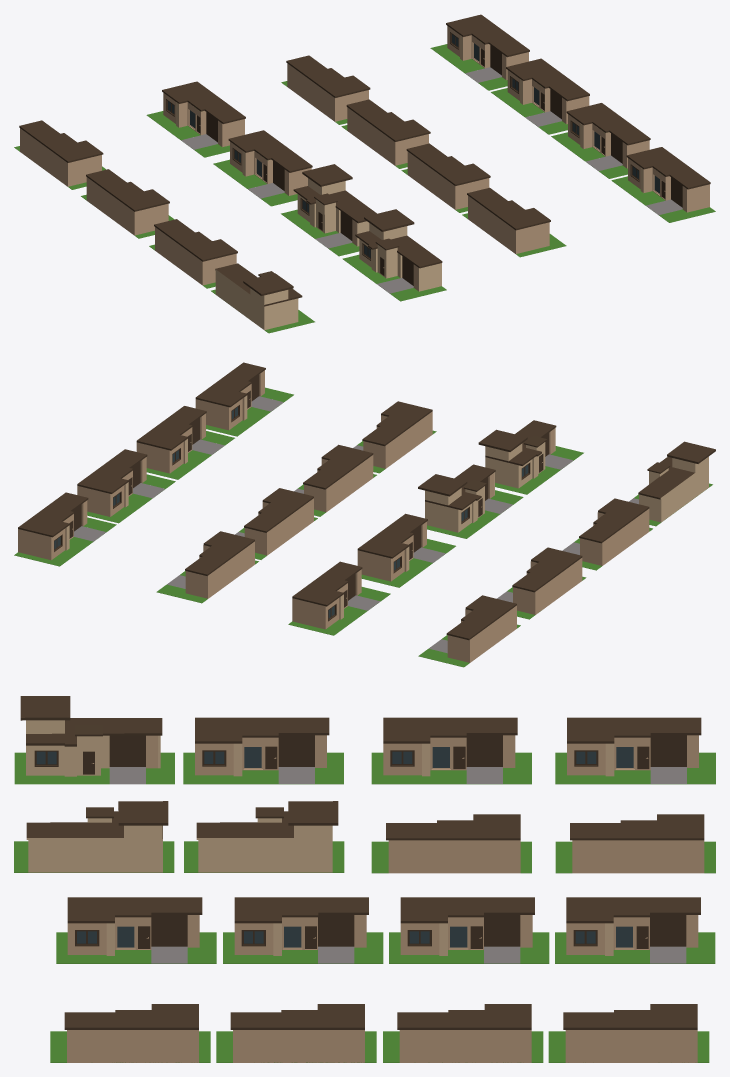
The model's file is main_scene_outter-homes.glb.
The picture shows the model from 3 angles, top to bottom: view 1: azimuth 30°, elevation 25°; view 2: azimuth 150°, elevation 25°; view 3: azimuth 270°, elevation 25°; orthographic projection. The views are drawn at different scales.
Visible parts, largest first — view 1: house-small-2-roof (×13), house-small-2-back-wall (×8), house-small-2-ground (×6), house-small-1-top-roof (×3), house-small-1-ground (×2), house-small-1-back-wall (×2), house-small-1-door-wall (×2), house-small-1-left-wall; view 2: house-small-2-roof (×13), house-small-2-back-wall (×13), house-small-2-ground (×8), house-small-1-top-roof (×3), house-small-1-ground (×2), house-small-1-back-wall, house-small-1-left-wall (×2); view 3: house-small-2-roof (×13), house-small-2-back-wall (×6), house-small-2-ground (×13), house-small-1-top-roof (×3), house-small-2-wall-window (×7), house-small-1-back-wall (×2), house-small-2-garage (×7), house-small-2-door-wall (×7), house-small-1-ground (×3), house-small-1-garage, house-small-1-front-window, house-small-1-door-wall.
Boxes of the visible parts, bbox=[...] form: house-small-2-roof (×13): bbox=[19, 14, 710, 261]; house-small-2-back-wall (×8): bbox=[20, 63, 709, 285]; house-small-2-ground (×6): bbox=[146, 44, 715, 222]; house-small-1-top-roof (×3): bbox=[215, 164, 442, 306]; house-small-1-ground (×2): bbox=[281, 209, 446, 301]; house-small-1-back-wall (×2): bbox=[215, 263, 441, 329]; house-small-1-door-wall (×2): bbox=[314, 193, 399, 278]; house-small-1-left-wall: bbox=[264, 298, 298, 330]; house-small-2-roof (×13): bbox=[18, 362, 649, 640]; house-small-2-back-wall (×13): bbox=[18, 399, 649, 662]; house-small-2-ground (×8): bbox=[14, 387, 520, 667]; house-small-1-top-roof (×3): bbox=[418, 420, 715, 510]; house-small-1-ground (×2): bbox=[427, 446, 583, 538]; house-small-1-back-wall: bbox=[639, 465, 708, 522]; house-small-1-left-wall (×2): bbox=[425, 457, 519, 532]; house-small-2-roof (×13): bbox=[64, 717, 704, 1029]; house-small-2-back-wall (×6): bbox=[67, 840, 704, 1062]; house-small-2-ground (×13): bbox=[50, 752, 715, 1062]; house-small-1-top-roof (×3): bbox=[20, 696, 338, 839]; house-small-2-wall-window (×7): bbox=[67, 743, 605, 954]; house-small-1-back-wall (×2): bbox=[28, 840, 332, 872]; house-small-2-garage (×7): bbox=[151, 735, 686, 946]; house-small-2-door-wall (×7): bbox=[115, 738, 650, 949]; house-small-1-ground (×3): bbox=[14, 752, 344, 872]; house-small-1-garage: bbox=[109, 735, 145, 766]; house-small-1-front-window: bbox=[28, 745, 64, 775]; house-small-1-door-wall: bbox=[75, 725, 102, 775].
Size of the model in its own units: 61.24 by 4.89 by 58.01.
